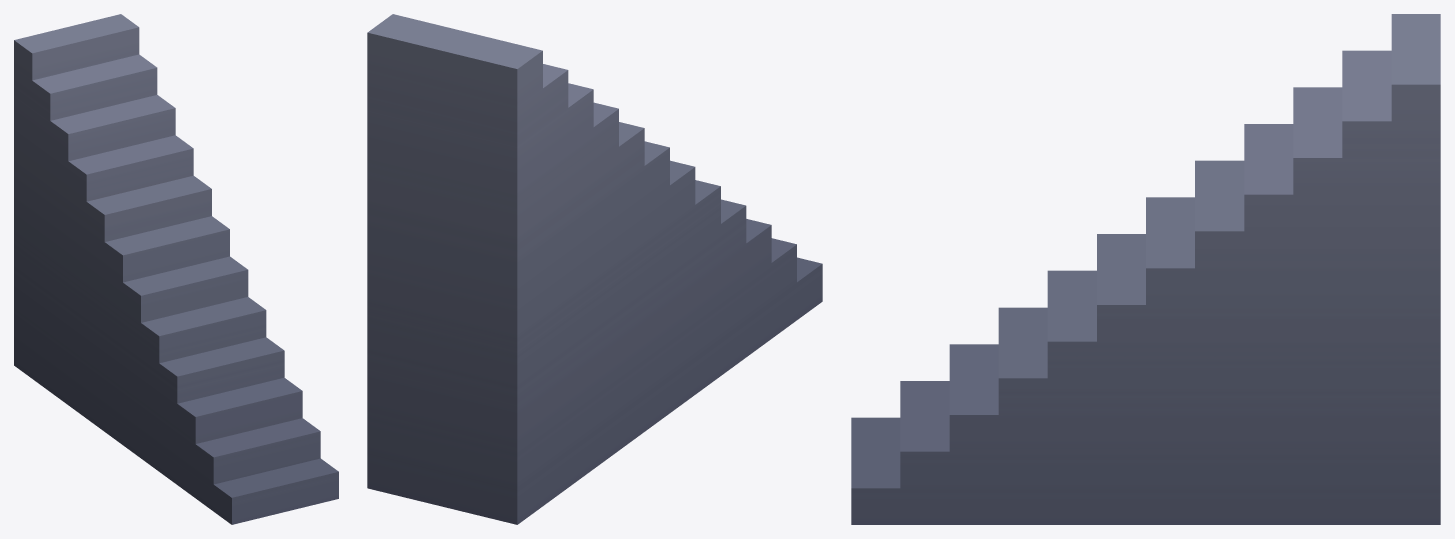
Rendered from stairs-stone-square.fbx.
3 renders of one model, left to right at view 1: azimuth 30°, elevation 25°; view 2: azimuth 150°, elevation 25°; view 3: azimuth 270°, elevation 25°, orthographic. The views are drawn at different scales.
Visible parts, largest first — view 1: stairs-stone-square; view 2: stairs-stone-square; view 3: stairs-stone-square.
Boxes of the visible parts, bbox=[...] form: stairs-stone-square: bbox=[14, 14, 338, 524]; stairs-stone-square: bbox=[367, 14, 822, 524]; stairs-stone-square: bbox=[851, 14, 1440, 524].
Size of the model in its own units: 0.2325 by 0.819 by 0.675.
